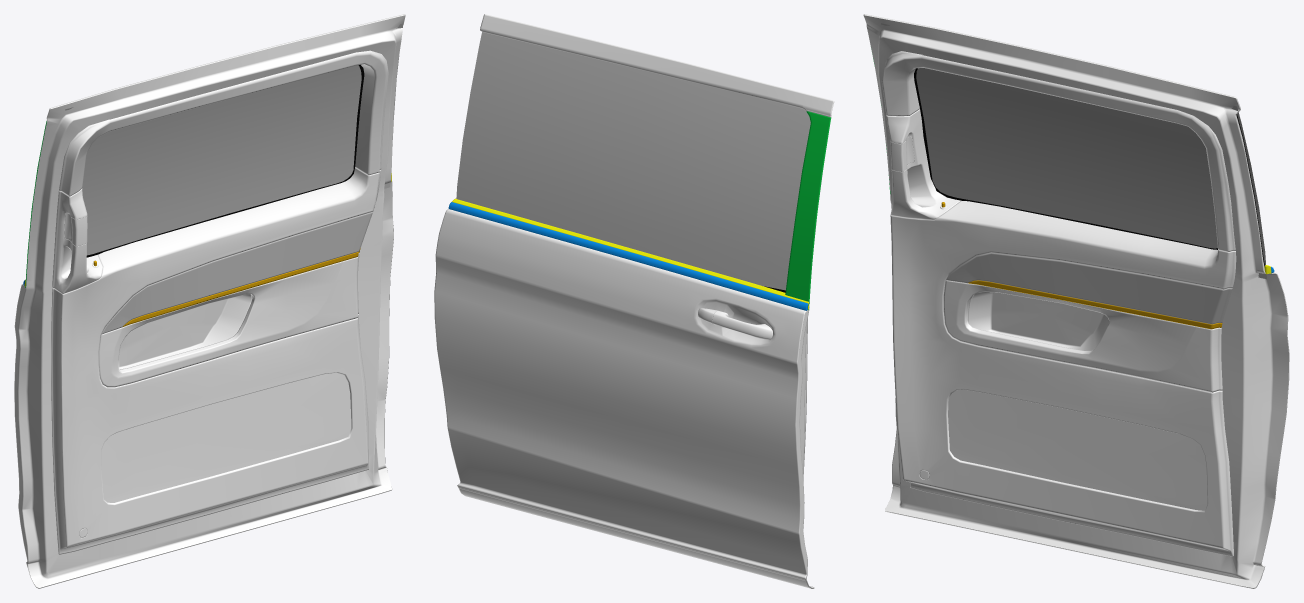
File: Door_b_R_socket_door_rr.glb
The picture shows the model from 3 angles, left to right: view 1: azimuth 30°, elevation 25°; view 2: azimuth 150°, elevation 25°; view 3: azimuth 330°, elevation 25°; orthographic projection. The views are drawn at different scales.
Visible parts, largest first — view 1: Paint_door_b_R001; view 2: Paint_door_b_R001; view 3: Paint_door_b_R001.
Part boxes in pixels (x1,y1,x2,y2): Paint_door_b_R001: (14,14,405,588); Paint_door_b_R001: (434,14,834,588); Paint_door_b_R001: (863,14,1289,588).
Bounding box in the file's own units: 1.22 × 1.54 × 0.2434.
